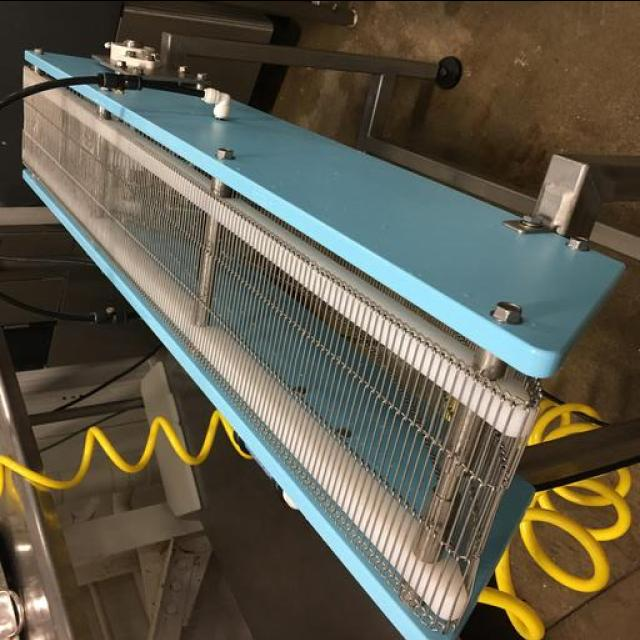conveyor: (22, 52, 538, 634)
